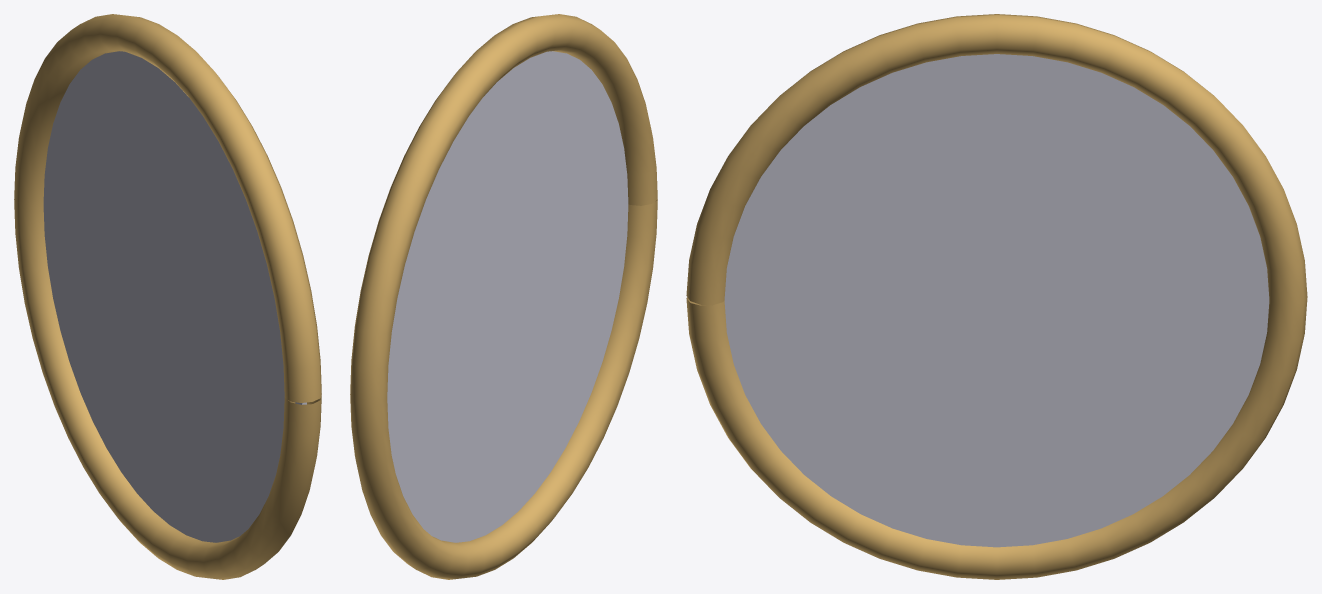
The model's file is mirror.fbx.
The picture shows the model from 3 angles, left to right: view 1: azimuth 30°, elevation 25°; view 2: azimuth 150°, elevation 25°; view 3: azimuth 270°, elevation 25°; orthographic projection. The views are drawn at different scales.
Visible parts, largest first — view 1: mirror; view 2: mirror; view 3: mirror.
Part boxes in pixels (box(x1,y1,x2,y2)): mirror: box(14, 14, 321, 579); mirror: box(350, 14, 657, 579); mirror: box(686, 14, 1307, 579).
Size of the model in its own units: 0.038 by 0.61 by 0.61.
